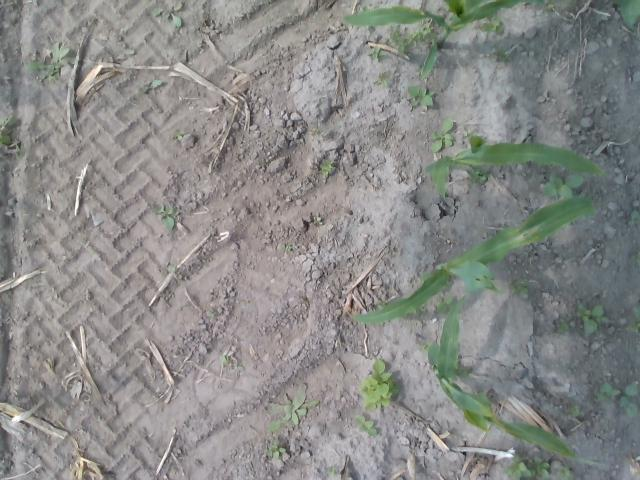Maize: (345, 194, 597, 326), (427, 294, 609, 467), (340, 0, 566, 81), (424, 134, 610, 208)
Weeds: (264, 384, 320, 433), (358, 357, 400, 411), (21, 41, 72, 82), (385, 17, 435, 54), (541, 170, 584, 200), (505, 453, 550, 480), (576, 301, 610, 336), (611, 0, 640, 36), (150, 0, 183, 28), (429, 119, 454, 152), (152, 203, 180, 230), (618, 382, 638, 418), (406, 84, 434, 108), (354, 414, 378, 438), (535, 0, 576, 14), (480, 13, 504, 35), (596, 381, 620, 403), (506, 275, 530, 297), (466, 165, 491, 185), (219, 354, 245, 373), (0, 115, 14, 148), (136, 79, 162, 94), (265, 440, 286, 458), (626, 306, 640, 333), (436, 295, 456, 313), (367, 45, 386, 62), (490, 46, 510, 61), (317, 158, 335, 174), (455, 364, 474, 379), (373, 72, 392, 86), (556, 465, 573, 480), (555, 316, 570, 333), (460, 125, 478, 139), (628, 209, 640, 225), (171, 128, 185, 140), (568, 404, 580, 418), (374, 298, 390, 308), (13, 144, 24, 158), (326, 466, 337, 478), (414, 303, 427, 313), (631, 250, 640, 264), (418, 342, 430, 350), (280, 243, 292, 251), (357, 5, 369, 12), (316, 126, 324, 134), (167, 265, 175, 273), (316, 216, 323, 224), (209, 310, 216, 316)
